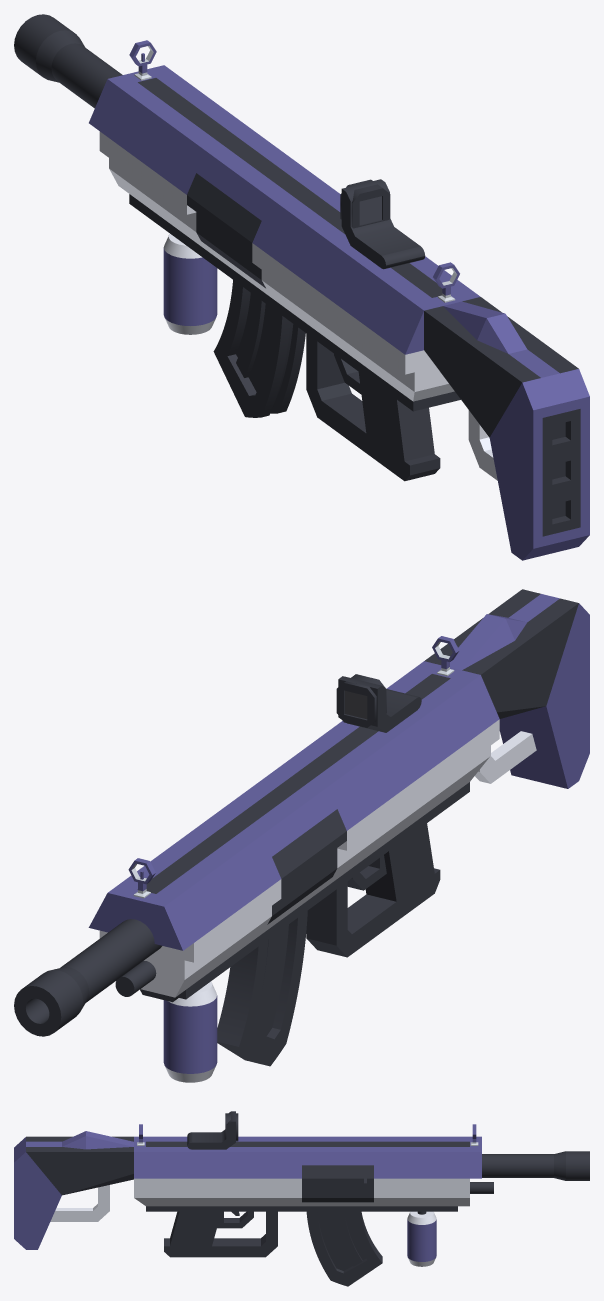
The model's file is rifle_1.glb.
3 views of the same model, one above another, from view 1: azimuth 30°, elevation 25°; view 2: azimuth 150°, elevation 25°; view 3: azimuth 270°, elevation 25° (orthographic). The views are drawn at different scales.
Visible parts, largest first — view 1: stock_assault, largeBlaster_handleGuard, largeBlaster_centerDetail, largeBlaster_barrelAssault, clip_banana, largeBlaster_back, attachment_barrelEnd, attachment_handle, detail_seat, detail_light_square; view 2: largeBlaster_handleGuard, stock_assault, largeBlaster_centerDetail, largeBlaster_barrelAssault, clip_banana, attachment_barrelEnd, attachment_handle, largeBlaster_back, detail_light_square (×2), detail_seat; view 3: largeBlaster_handleGuard, stock_assault, largeBlaster_centerDetail, largeBlaster_barrelAssault, clip_banana, attachment_barrelEnd, largeBlaster_back, attachment_handle, detail_seat.
Part boxes in pixels (x1,y1,x2,y2): stock_assault: [424, 297, 589, 560]; largeBlaster_handleGuard: [274, 203, 458, 481]; largeBlaster_centerDetail: [165, 121, 340, 323]; largeBlaster_barrelAssault: [89, 65, 239, 243]; clip_banana: [213, 280, 305, 417]; largeBlaster_back: [383, 281, 480, 411]; attachment_barrelEnd: [14, 14, 122, 108]; attachment_handle: [163, 234, 217, 334]; detail_seat: [341, 179, 425, 269]; detail_light_square: [351, 184, 390, 228]; largeBlaster_handleGuard: [293, 677, 477, 957]; stock_assault: [424, 589, 589, 788]; largeBlaster_centerDetail: [184, 757, 368, 958]; largeBlaster_barrelAssault: [88, 837, 259, 999]; clip_banana: [217, 911, 307, 1066]; attachment_barrelEnd: [14, 920, 161, 1036]; attachment_handle: [140, 981, 217, 1082]; largeBlaster_back: [402, 661, 499, 799]; detail_light_square (×2): [336, 674, 386, 727]; detail_seat: [338, 676, 421, 732]; largeBlaster_handleGuard: [158, 1136, 277, 1257]; stock_assault: [14, 1131, 133, 1249]; largeBlaster_centerDetail: [278, 1136, 397, 1211]; largeBlaster_barrelAssault: [398, 1136, 505, 1211]; clip_banana: [306, 1211, 382, 1286]; attachment_barrelEnd: [482, 1151, 589, 1180]; largeBlaster_back: [134, 1136, 157, 1211]; attachment_handle: [407, 1211, 436, 1266]; detail_seat: [187, 1111, 235, 1149].
Size of the model in its own units: 0.5951 by 1.54 by 4.8.
